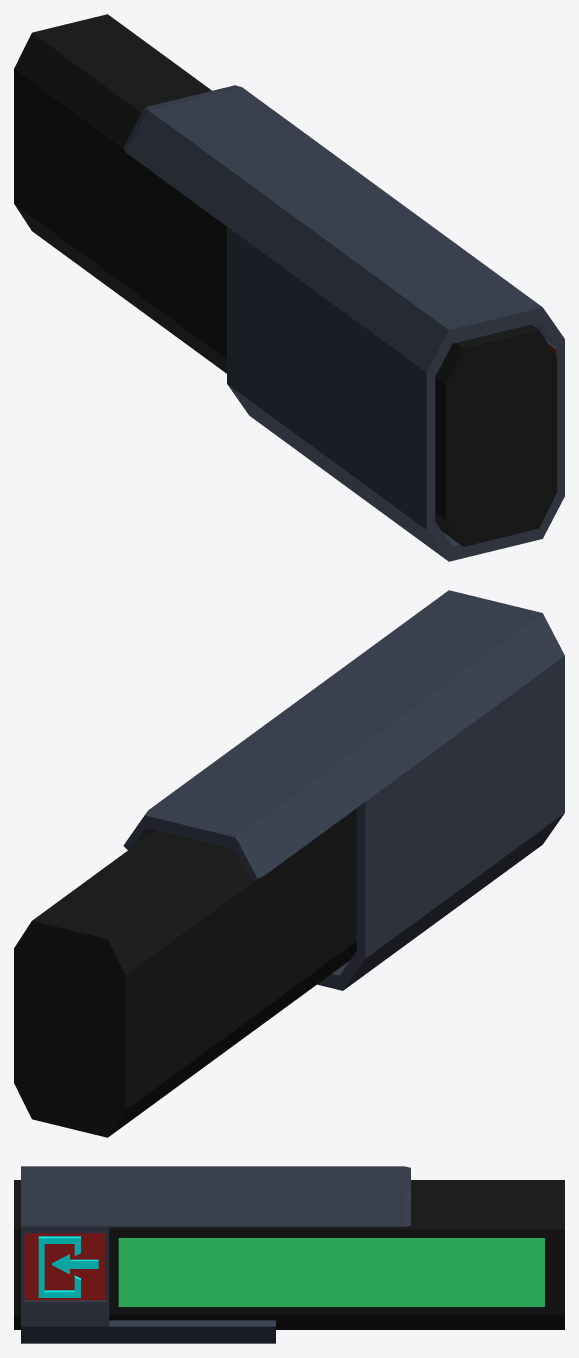
The model's file is Exit Button.fbx.
The picture shows the model from 3 angles, top to bottom: view 1: azimuth 30°, elevation 25°; view 2: azimuth 150°, elevation 25°; view 3: azimuth 270°, elevation 25°; orthographic projection. The views are drawn at different scales.
Parts seen in each view (by area): view 1: Exit Button; view 2: Exit Button; view 3: Exit Button.
Boxes of the visible parts, bbox=[...] form: Exit Button: bbox=[14, 14, 564, 561]; Exit Button: bbox=[14, 590, 564, 1137]; Exit Button: bbox=[14, 1166, 564, 1343].
Bounding box in the file's own units: 30.62 × 48.47 × 164.
